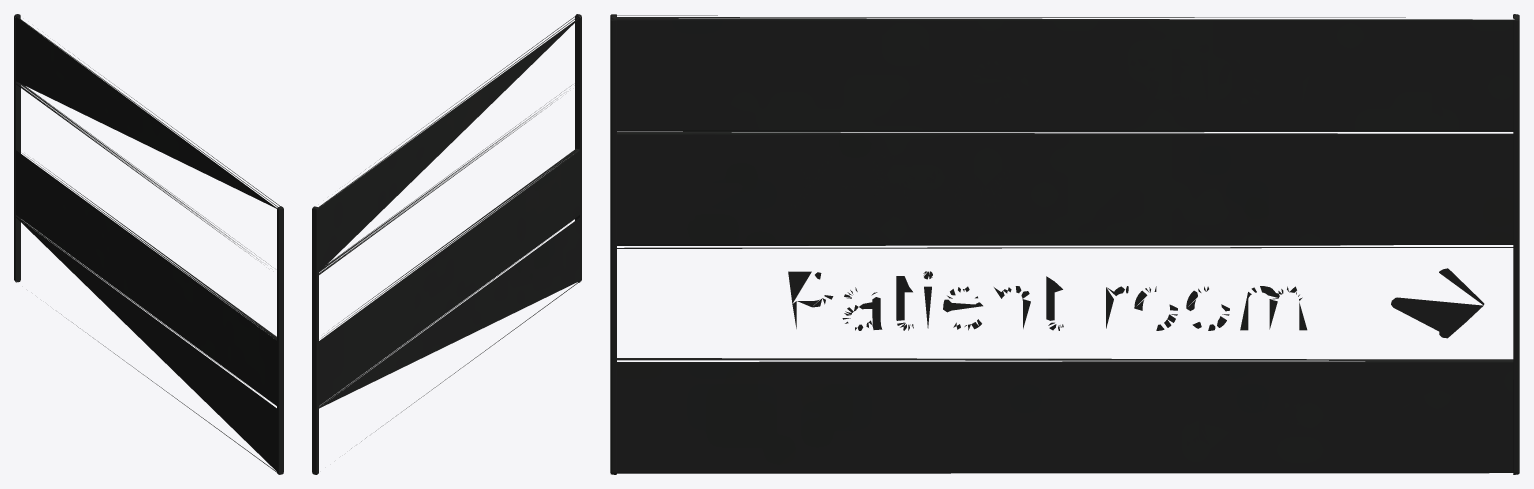
The model's file is sign_hospital_board_b02.glb.
The picture shows the model from 3 angles, left to right: view 1: azimuth 30°, elevation 25°; view 2: azimuth 150°, elevation 25°; view 3: azimuth 270°, elevation 25°; orthographic projection. The views are drawn at different scales.
Visible parts, largest first — view 1: geometry_0; view 2: geometry_0; view 3: geometry_0.
Boxes of the visible parts, bbox=[...] form: geometry_0: bbox=[14, 14, 283, 474]; geometry_0: bbox=[312, 14, 581, 474]; geometry_0: bbox=[610, 14, 1519, 474].
Size of the model in its own units: 0.00504 by 0.2337 by 0.42.
Materials: 1 (1 with a texture image).
